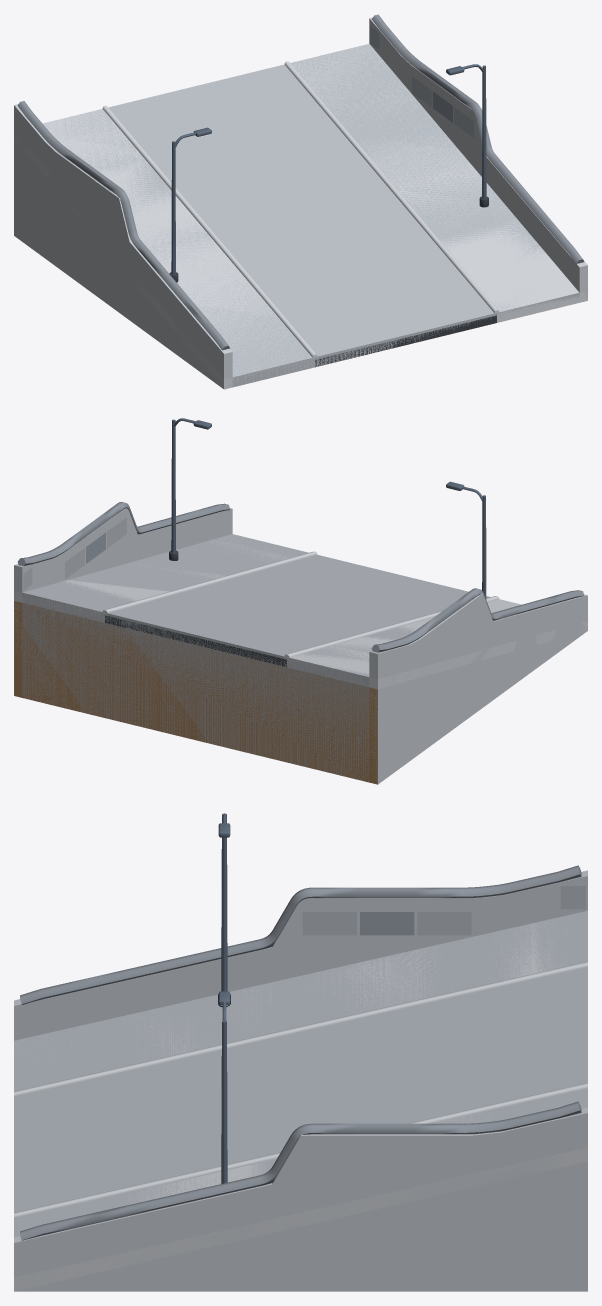
Rendered from plato_rampa_rua.glb.
3 renders of one model, top to bottom at view 1: azimuth 30°, elevation 25°; view 2: azimuth 150°, elevation 25°; view 3: azimuth 270°, elevation 25°, orthographic. The views are drawn at different scales.
Visible parts, largest first — view 1: colisao_rampa, plato_rampa_rua; view 2: plato_rampa_rua, colisao_rampa; view 3: plato_rampa_rua, colisao_rampa.
Part boxes in pixels (<box>): colisao_rampa: <box>43,43,579,387</box>; plato_rampa_rua: <box>14,14,587,389</box>; plato_rampa_rua: <box>14,418,587,784</box>; colisao_rampa: <box>22,534,495,781</box>; plato_rampa_rua: <box>14,813,587,1291</box>; colisao_rampa: <box>14,911,587,1237</box>.
Bounding box in the file's own units: 15 × 7.46 × 15.
2 materials, 1 textured.
